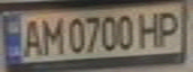0: (115, 11, 139, 51), (100, 12, 121, 52), (63, 15, 84, 54)
7: (81, 12, 103, 53)
A: (18, 16, 45, 57)
H: (136, 9, 163, 48)
M: (36, 15, 63, 56)
P: (154, 7, 187, 47)
